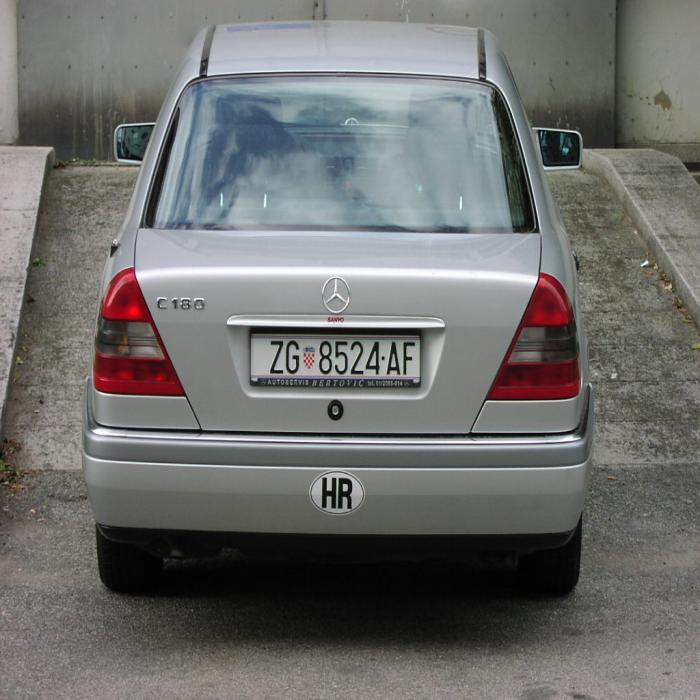number_plate: (251, 334, 418, 378)
